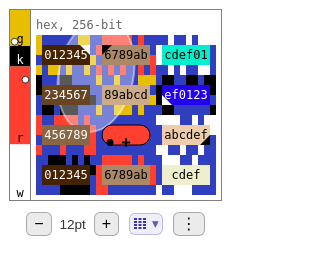
Entviz controls › reshape: opening the shape menu closes the copy menu (mutually exclusive)
The width and height of the screenshot is (320, 253).
Click the button named "Actions" at (189, 224), box [173,212,205,236]
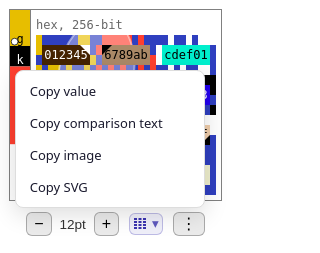
Result: the menu named "Actions" is shown at [15,70,205,208]
Click the button named "shape" at (146, 224), box [129,213,163,235]
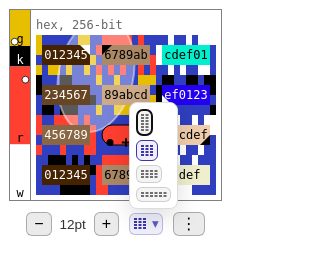
Result: the menu "Copy value Copy comparison text Copy image Copy SVG" is gone
